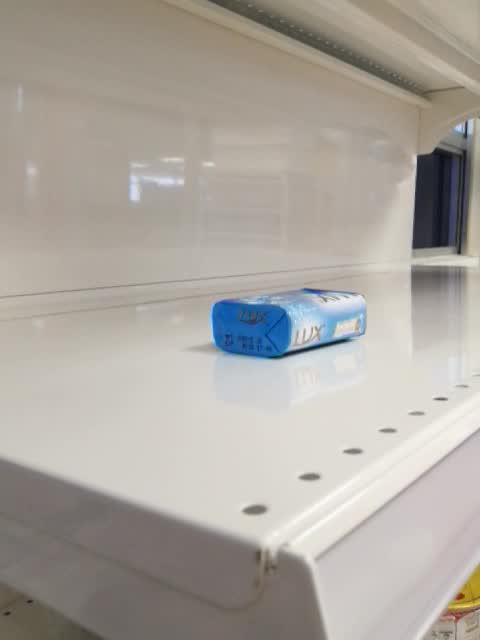soap: (210, 287, 369, 360)
